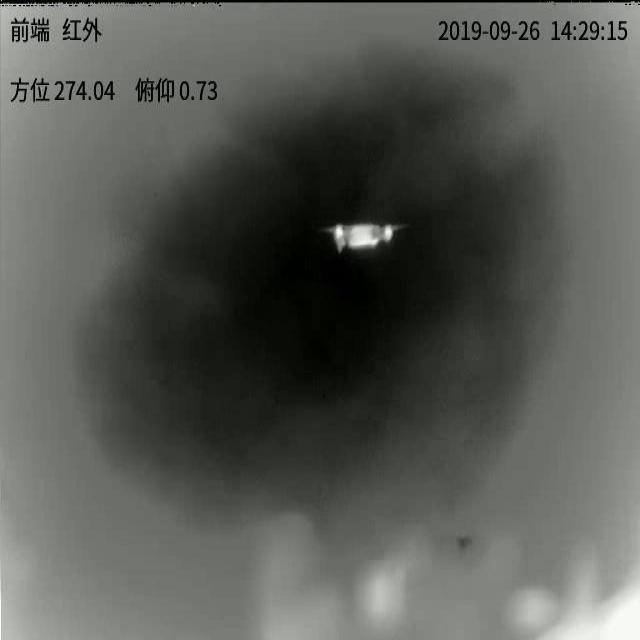drone: (323, 223, 404, 253)
